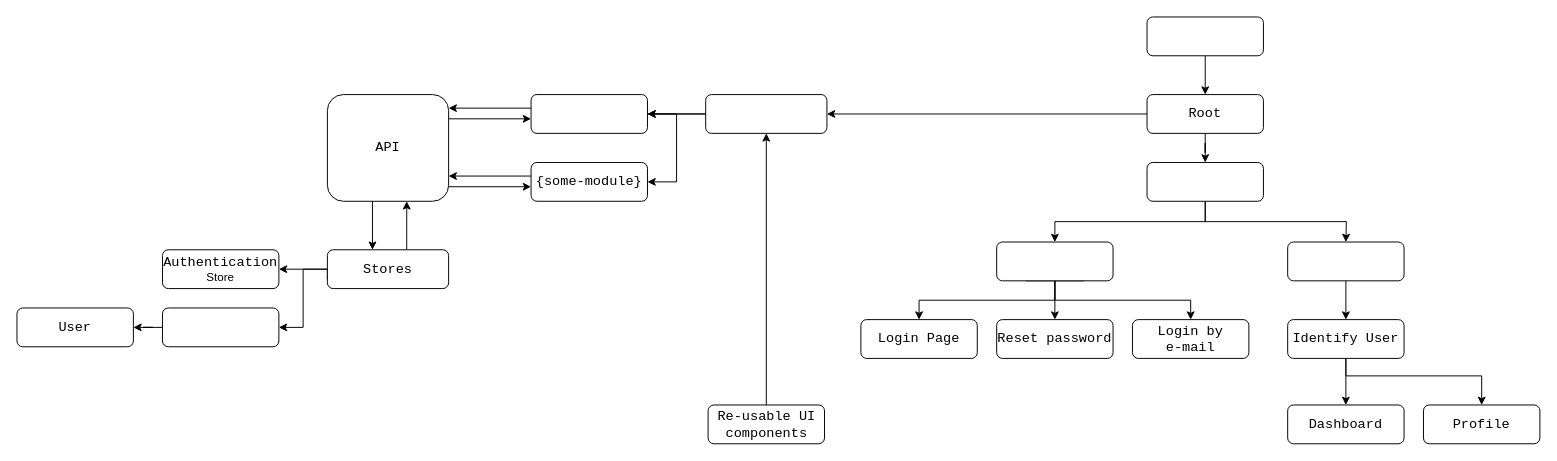
This 1557x461 diagram has some shape labels left out. Here are the shapes that lost their labels. From the top down, the centre of each, then its label:
At pixel 1204 36: "APP".
At pixel 588 113: "Authentication Module".
At pixel 766 113: "Modules".
At pixel 1204 181: "Authentication".
At pixel 1054 261: "Anonymous".
At pixel 1345 261: "Authenticated".
At pixel 220 327: "User Store".
